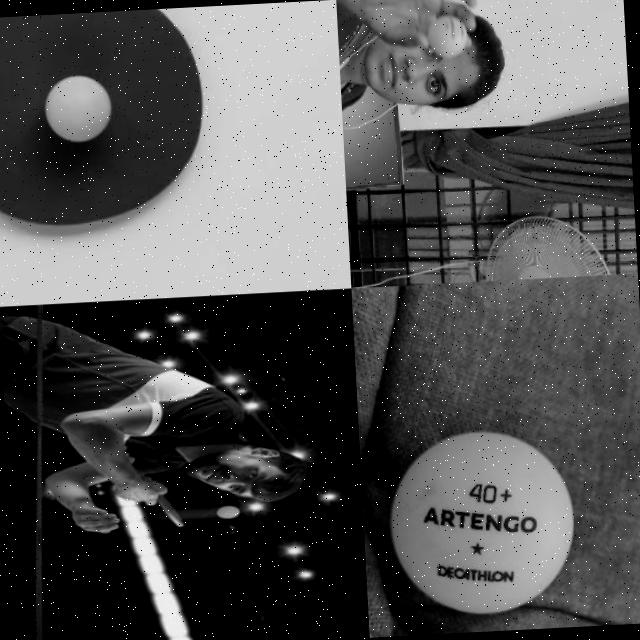ping-pong-ball: (386, 424, 581, 614), (45, 76, 115, 140), (427, 12, 469, 56), (218, 504, 240, 518)
